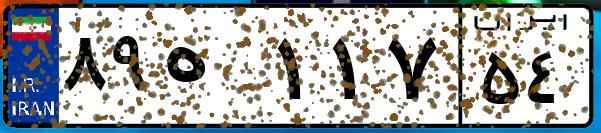1: (270, 28, 330, 110), (330, 28, 385, 110)
4: (525, 38, 570, 115)
5: (475, 38, 525, 113)
7: (385, 28, 445, 110)
8: (57, 26, 110, 100)
9: (110, 28, 158, 98)
ه: (158, 20, 270, 120)
